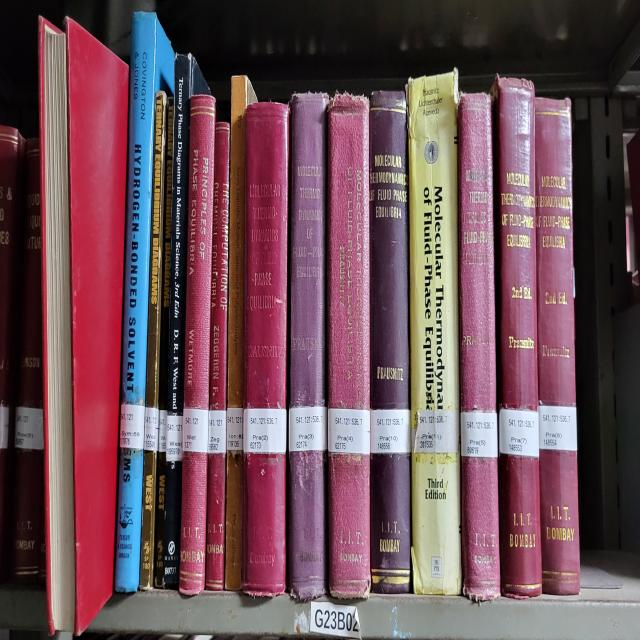Book: (115, 14, 175, 593), (406, 73, 461, 595), (492, 76, 542, 598), (162, 54, 209, 587), (242, 103, 289, 595), (535, 97, 580, 595), (458, 92, 500, 601), (328, 95, 370, 598), (369, 92, 411, 593), (289, 95, 329, 598), (179, 95, 215, 595), (225, 76, 256, 590), (140, 92, 172, 587), (205, 122, 230, 590), (154, 97, 174, 587)
Label: (414, 409, 459, 455), (244, 409, 286, 455), (328, 409, 370, 455), (499, 409, 539, 457), (370, 409, 411, 455), (289, 406, 328, 452), (539, 406, 578, 452), (460, 411, 498, 457), (182, 409, 209, 455), (120, 403, 145, 449), (208, 409, 226, 455), (166, 414, 182, 463), (226, 409, 244, 452), (144, 406, 159, 452), (159, 409, 168, 452)
